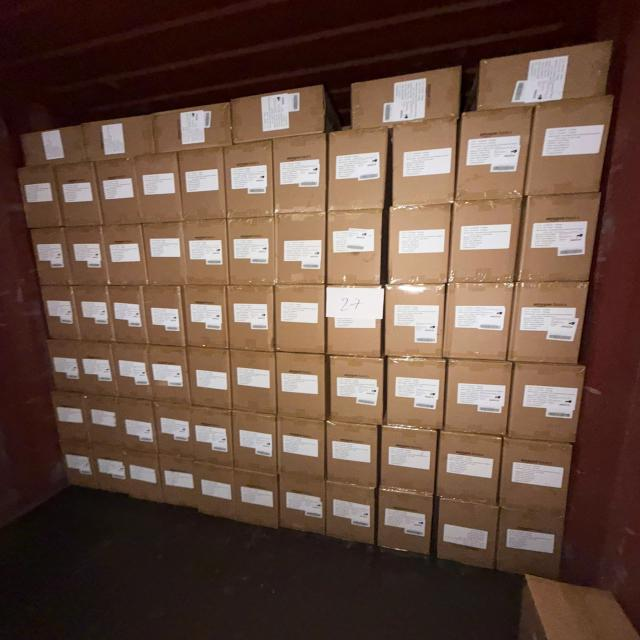Carton: (479, 31, 616, 104), (528, 98, 615, 197), (518, 193, 602, 282), (457, 110, 533, 202), (513, 280, 591, 363), (510, 361, 586, 444), (349, 70, 459, 126), (392, 119, 459, 208), (453, 200, 524, 282), (502, 439, 574, 514), (232, 89, 328, 145), (443, 284, 511, 363), (499, 510, 567, 585), (438, 430, 504, 507), (444, 357, 509, 435), (388, 207, 451, 287), (328, 128, 388, 212), (438, 498, 500, 575), (382, 287, 444, 362), (328, 211, 385, 289), (384, 356, 443, 428), (273, 137, 326, 217), (327, 283, 385, 356), (78, 111, 158, 163), (169, 406, 234, 469), (375, 488, 432, 558), (378, 424, 434, 495), (330, 357, 386, 427), (223, 143, 272, 220), (273, 286, 324, 359), (155, 106, 234, 153), (276, 214, 326, 288), (92, 156, 144, 226), (325, 482, 376, 551), (277, 352, 327, 422), (51, 160, 101, 230), (132, 153, 180, 225), (18, 122, 93, 168), (328, 424, 379, 491), (181, 148, 228, 220), (226, 216, 274, 286), (228, 286, 276, 356), (182, 282, 230, 352), (189, 457, 239, 524), (277, 413, 326, 479), (229, 346, 275, 414), (231, 412, 278, 478), (232, 465, 279, 531), (140, 282, 185, 350), (277, 473, 325, 535), (28, 226, 76, 288), (112, 394, 160, 456), (185, 220, 230, 286), (156, 405, 204, 466), (154, 452, 202, 511), (188, 344, 232, 408), (142, 224, 186, 288), (121, 446, 168, 505), (107, 281, 148, 347), (74, 284, 119, 343), (37, 284, 82, 342), (18, 168, 60, 230), (64, 229, 107, 289), (107, 226, 148, 288), (81, 392, 125, 449), (58, 436, 102, 492), (149, 342, 189, 403), (46, 386, 88, 442), (113, 344, 152, 402), (90, 439, 129, 496), (82, 341, 118, 396), (49, 340, 81, 394)
